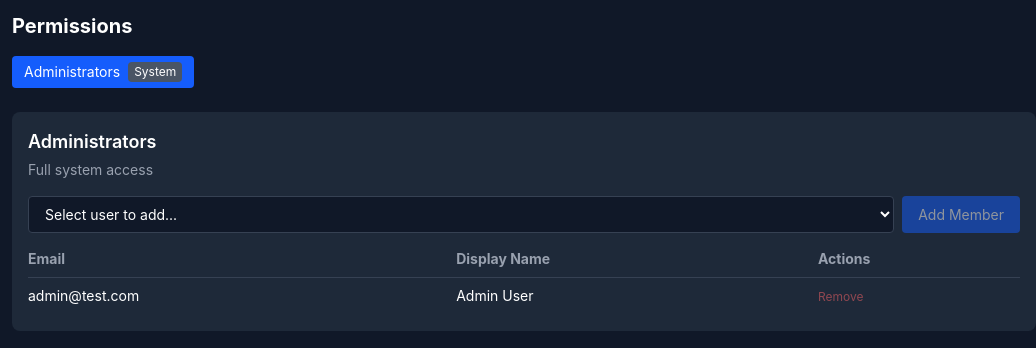
it: Permissions › handleAdd clears the selected user after a successful add
Select "regular@test.com (Regular User)" in the dropdown. click: (461, 214)
box: [28, 196, 894, 233]
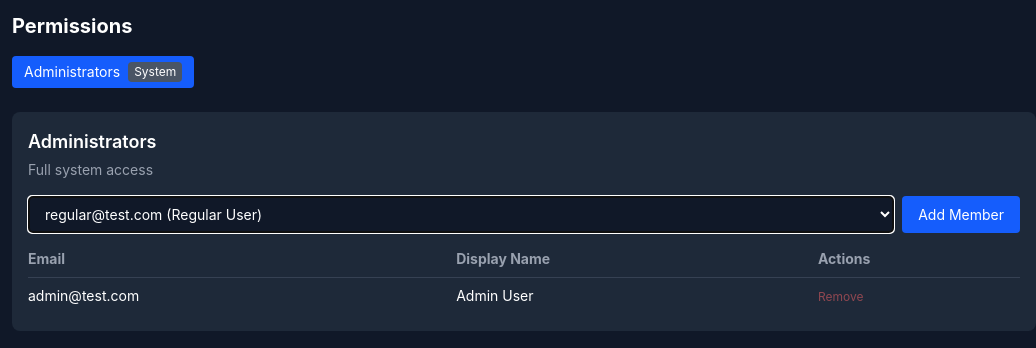
Click the button "Add Member". click: (961, 214)
box: [902, 196, 1020, 233]
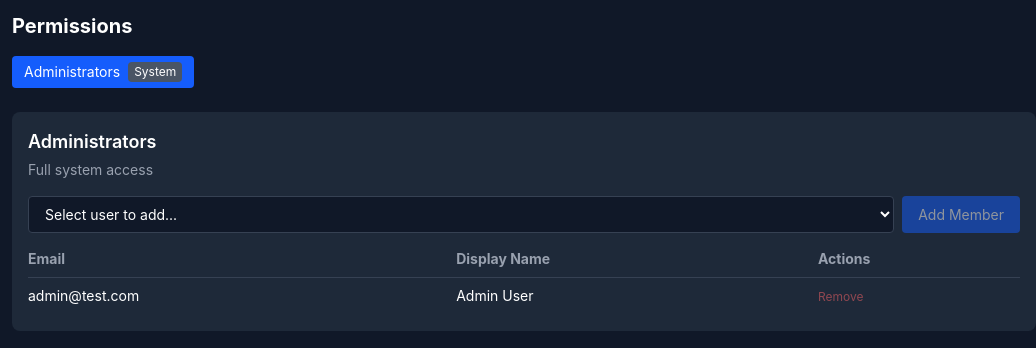
Now the button "Add Member" is disabled, box [902, 196, 1020, 233]
